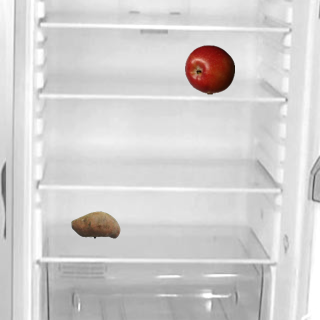Apple Braeburn: (184, 44, 234, 94)
Potato Sweet: (70, 199, 120, 249)
